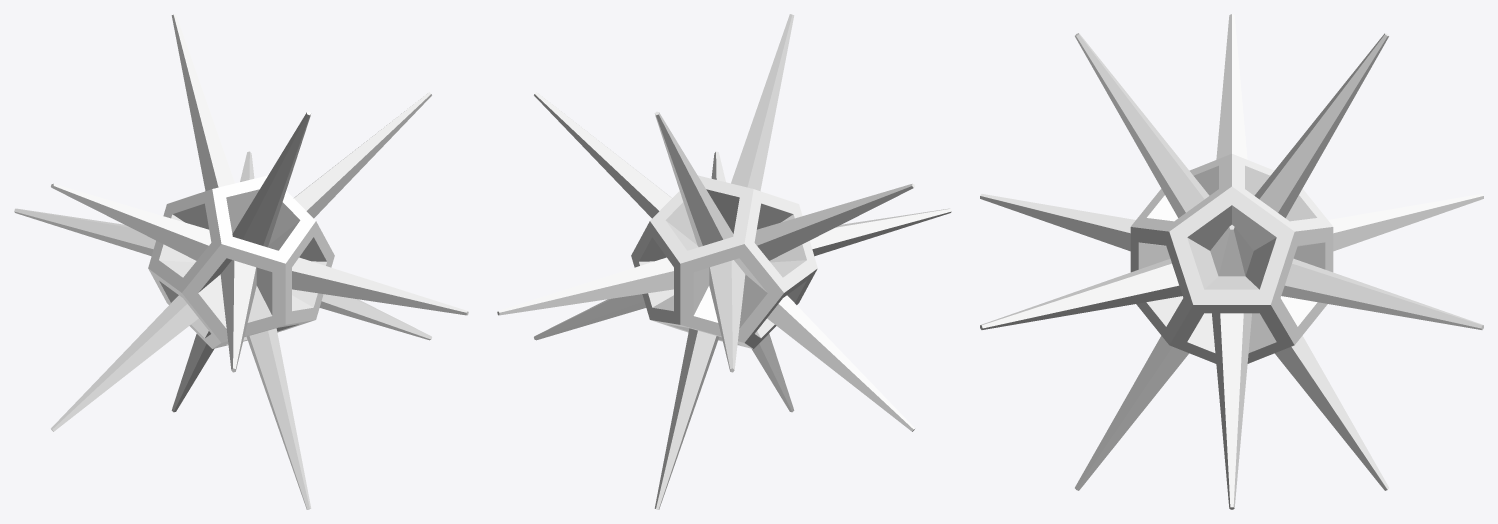
Rendered from multi_star.fbx.
The picture shows the model from 3 angles, left to right: view 1: azimuth 30°, elevation 25°; view 2: azimuth 150°, elevation 25°; view 3: azimuth 270°, elevation 25°; orthographic projection. The views are drawn at different scales.
Visible parts, largest first — view 1: Mesh Object; view 2: Mesh Object; view 3: Mesh Object.
Part boxes in pixels (x1,y1,x2,y2): Mesh Object: (14, 14, 468, 509); Mesh Object: (497, 14, 951, 509); Mesh Object: (980, 14, 1483, 509).
Size of the model in its own units: 0.9281 by 0.9281 by 0.9281.
